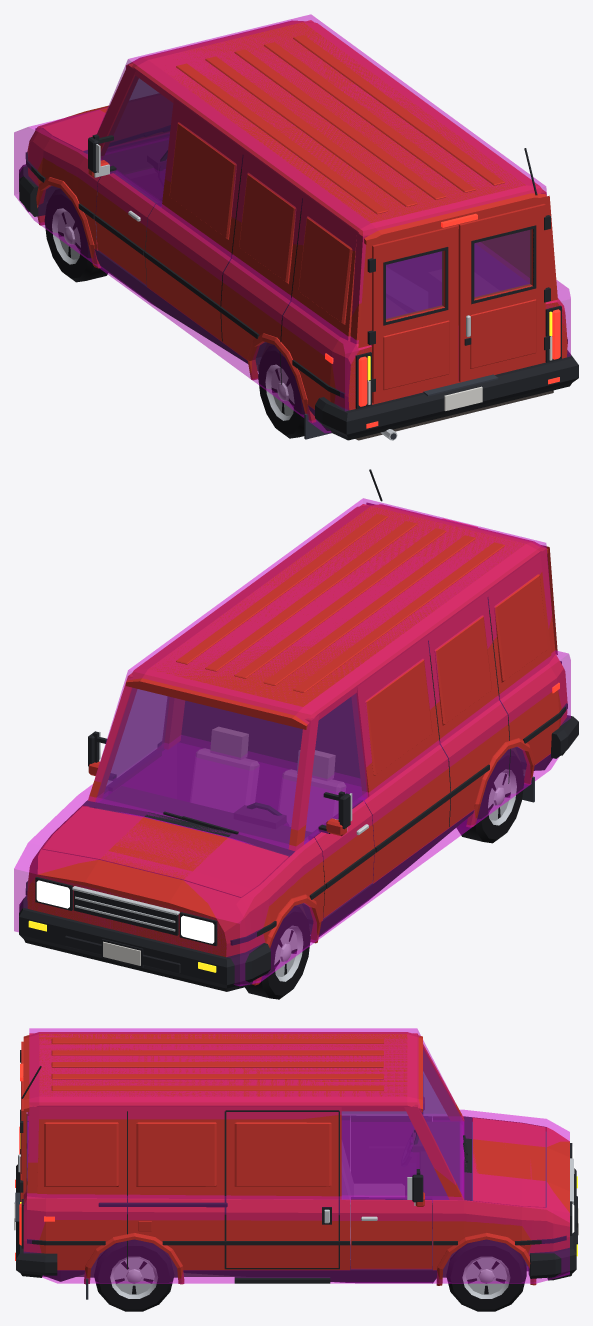
Rendered from van.glb.
3 views of the same model, one above another, from view 1: azimuth 30°, elevation 25°; view 2: azimuth 150°, elevation 25°; view 3: azimuth 270°, elevation 25° (orthographic). The views are drawn at different scales.
Parts seen in each view (by area): view 1: Body, Col_Cabin, Col_Body, Door_RearR, Door_RearL, Glass_L, Door_FL, Glass_Rear, Glass_Rear_R, Wheel_FL, Wheel_RL, Glass_Windshield (+1 smaller); view 2: Body, Col_Cabin, Col_Body, Glass_Windshield, Hood, Glass_L, Door_FL, Wheel_RL, Wheel_FL, Glass_R, Door_FR; view 3: Body, Col_Cabin, Col_Body, Glass_R, Door_FR, Hood, Wheel_FR, Wheel_RR, Door_FL, Glass_Windshield, Door_RearR, Glass_L.
Boxes of the visible parts, left/top/right/bottom form: Body: left=19, top=20, right=578, bottom=440; Col_Cabin: left=97, top=14, right=546, bottom=318; Col_Body: left=14, top=107, right=570, bottom=433; Door_RearR: left=458, top=204, right=550, bottom=382; Door_RearL: left=367, top=225, right=458, bottom=403; Glass_L: left=101, top=76, right=172, bottom=205; Door_FL: left=88, top=134, right=161, bottom=285; Glass_Rear: left=386, top=251, right=443, bottom=320; Glass_Rear_R: left=474, top=229, right=531, bottom=298; Wheel_FL: left=44, top=188, right=107, bottom=282; Wheel_RL: left=258, top=345, right=304, bottom=438; Glass_Windshield: left=109, top=79, right=172, bottom=146; Body: left=19, top=469, right=578, bottom=991; Col_Cabin: left=94, top=498, right=551, bottom=848; Col_Body: left=14, top=650, right=570, bottom=986; Glass_Windshield: left=96, top=688, right=302, bottom=848; Hood: left=42, top=806, right=288, bottom=897; Glass_L: left=304, top=694, right=366, bottom=843; Door_FL: left=308, top=791, right=375, bottom=918; Wheel_RL: left=456, top=749, right=524, bottom=843; Wheel_FL: left=245, top=906, right=310, bottom=999; Glass_R: left=107, top=689, right=168, bottom=783; Door_FR: left=88, top=731, right=161, bottom=794; Body: left=14, top=1032, right=578, bottom=1299; Col_Cabin: left=27, top=1028, right=463, bottom=1202; Col_Body: left=24, top=1109, right=569, bottom=1283; Glass_R: left=342, top=1111, right=448, bottom=1199; Door_FR: left=351, top=1169, right=432, bottom=1269; Hood: left=473, top=1117, right=545, bottom=1207; Wheel_FR: left=446, top=1239, right=526, bottom=1311; Wheel_RR: left=94, top=1239, right=174, bottom=1311; Door_FL: left=351, top=1113, right=431, bottom=1183; Glass_Windshield: left=422, top=1050, right=461, bottom=1193; Door_RearR: left=18, top=1077, right=27, bottom=1201; Glass_L: left=342, top=1072, right=445, bottom=1113.
Size of what is drawn, in the model's own units: 2.2 by 2.31 by 5.07.
